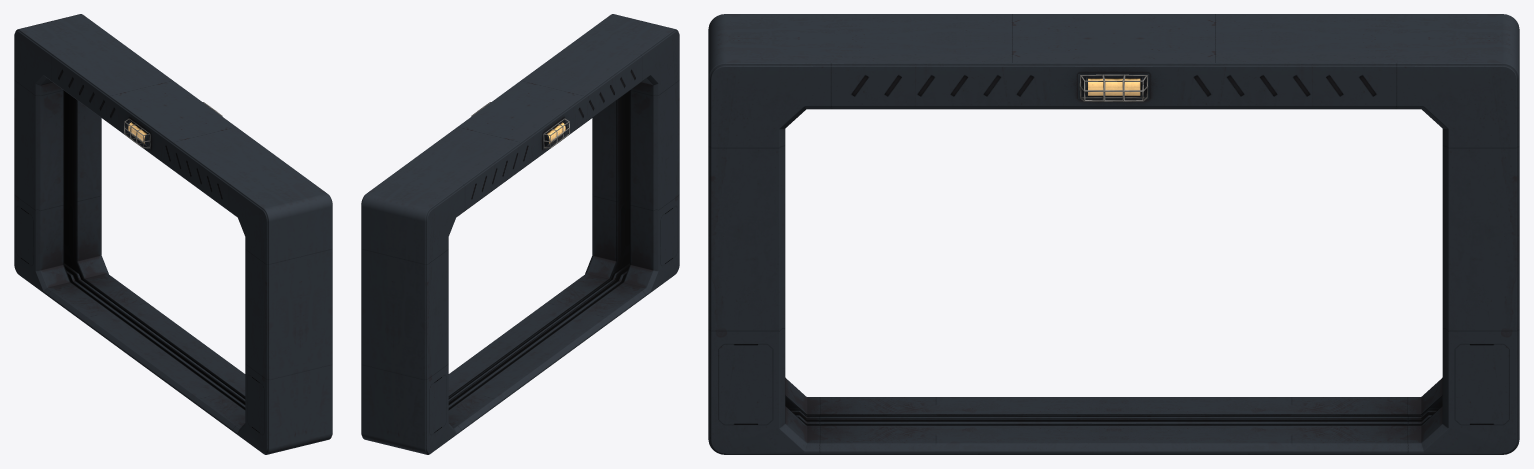
The model's file is BG_CM_BD_Gate_side.fbx.
3 views of the same model, side by side, from view 1: azimuth 30°, elevation 25°; view 2: azimuth 150°, elevation 25°; view 3: azimuth 270°, elevation 25° (orthographic). The views are drawn at different scales.
Parts seen in each view (by area): view 1: gate_side_low; view 2: gate_side_low; view 3: gate_side_low.
Boxes of the visible parts, x1=… form: gate_side_low: x1=14, y1=14, x2=332, y2=454; gate_side_low: x1=361, y1=14, x2=679, y2=454; gate_side_low: x1=708, y1=14, x2=1519, y2=454.
Size of the model in its own units: 130 by 380 by 712.
